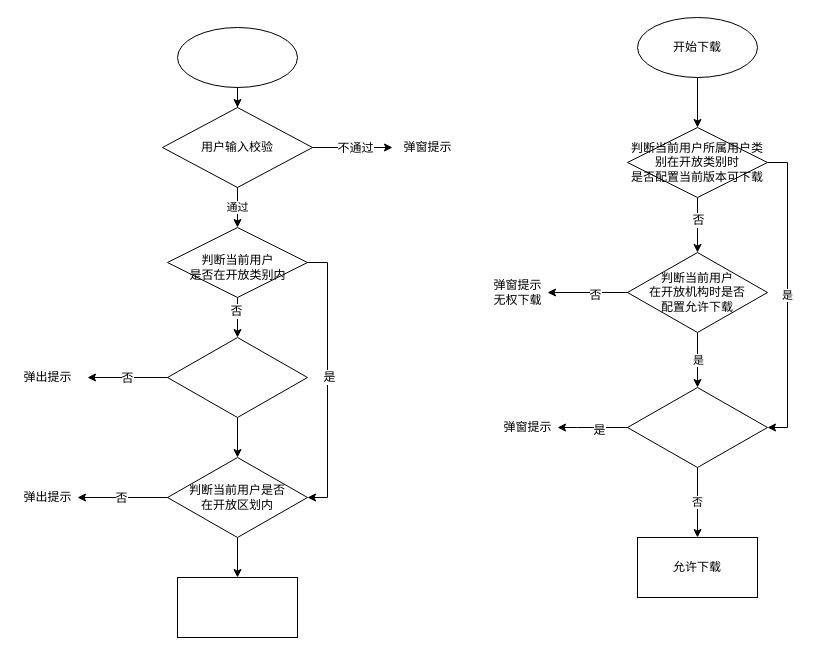
Some shapes in this 813 by 655 pixel diagram are drawn without their labels. The shapes that lost their labels are listed below. From the top down, each one's box as (x1, y1, x2, y2) in pixels, then its label:
(176, 26, 298, 88): 开始查询
(166, 336, 308, 418): 判断当前用户是否 在开放机构内
(626, 386, 768, 468): 判断当前用户 是否超过最大下载次数
(176, 576, 298, 638): 允许查看
